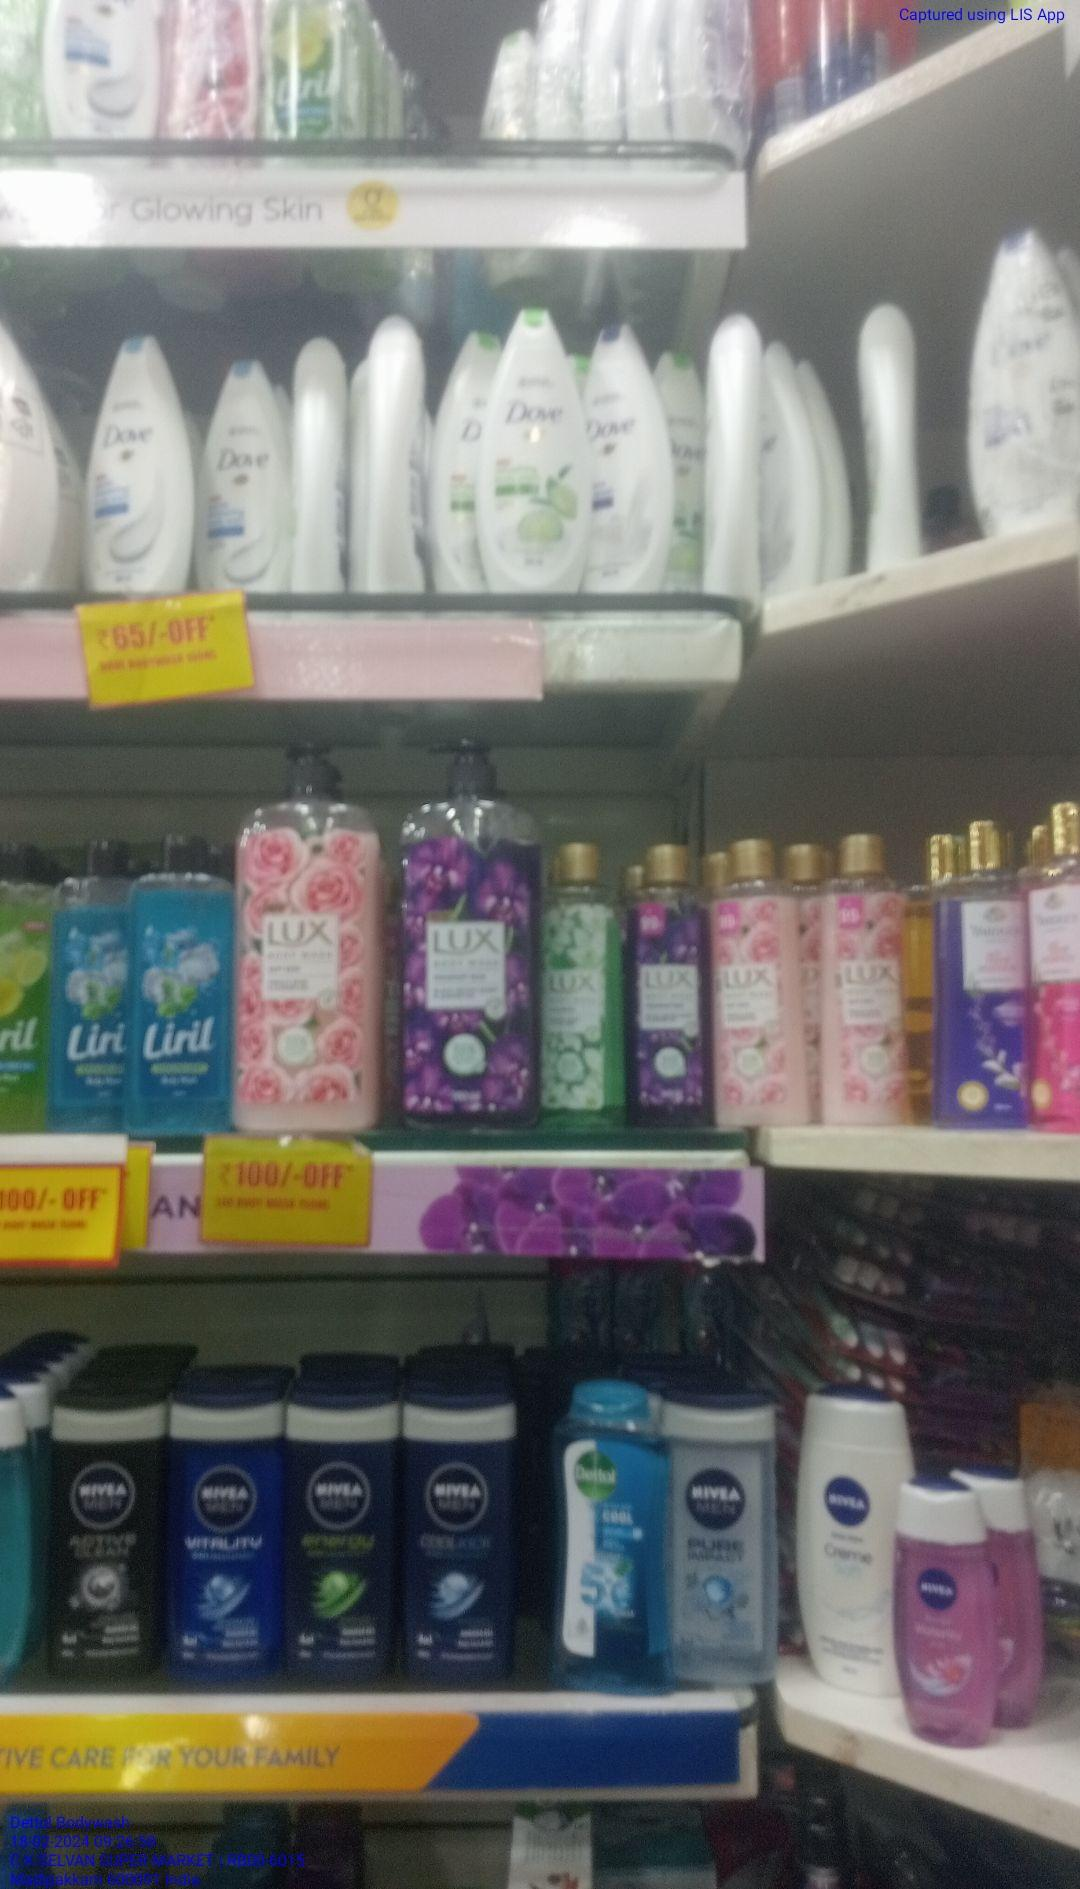Dettol_Bodywash_Cool: (557, 1374, 667, 1694)
Liril_Cooling_Mint_Body_Wash_250ML: (129, 838, 225, 1133), (53, 836, 123, 1127)
Lux_Black_Orchid_Scent_and_Juniper_Oil_Body_Wash_245ML: (632, 845, 701, 1122)
Lux_Body_Wash_Skin_Detox_Freesia_Scent_and_Alove_Vera_245ML: (539, 834, 624, 1121)
Nivea_Shower_Gel_Waterlily_and_Oil_250ML: (892, 1473, 1002, 1751)
